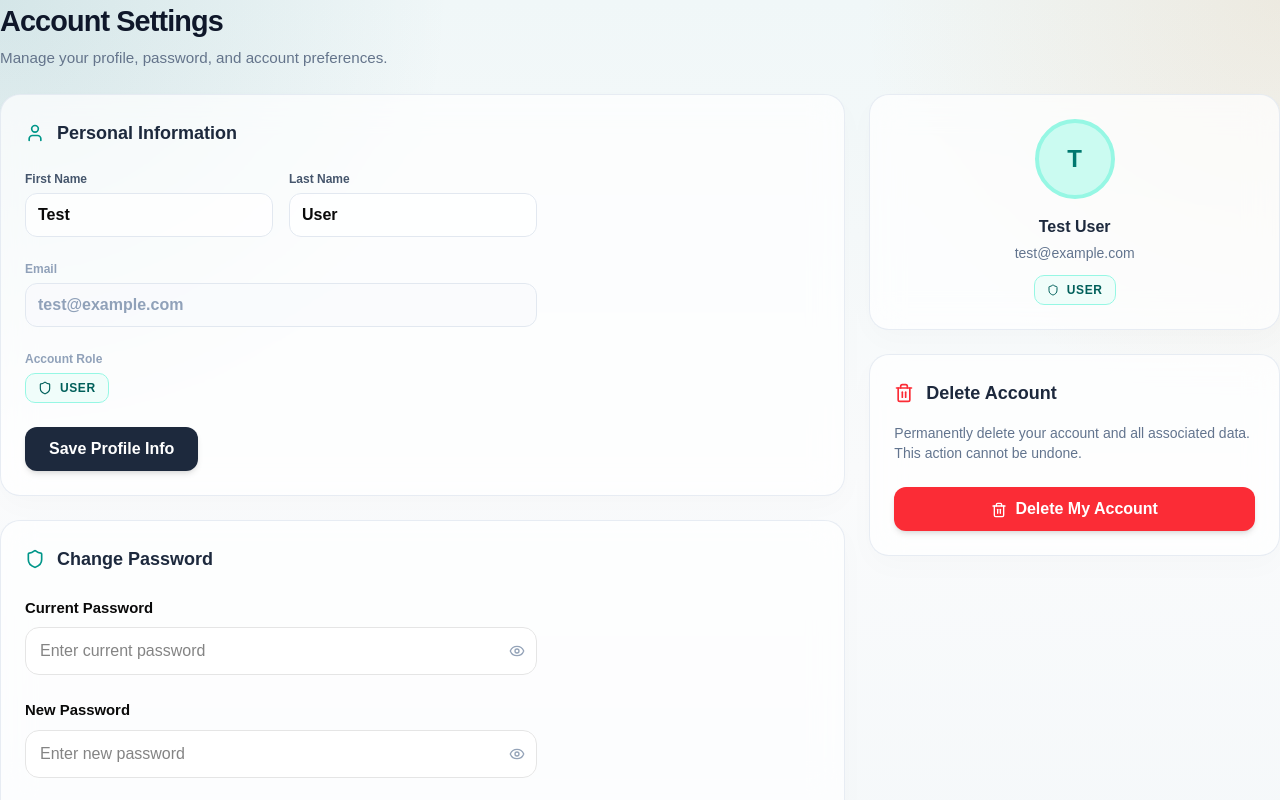
Scenario: DashboardSettings › closes delete dialog on cancel
Click the button with test id "delete-account-btn".
click(1075, 509)  # box [894,487,1255,531]
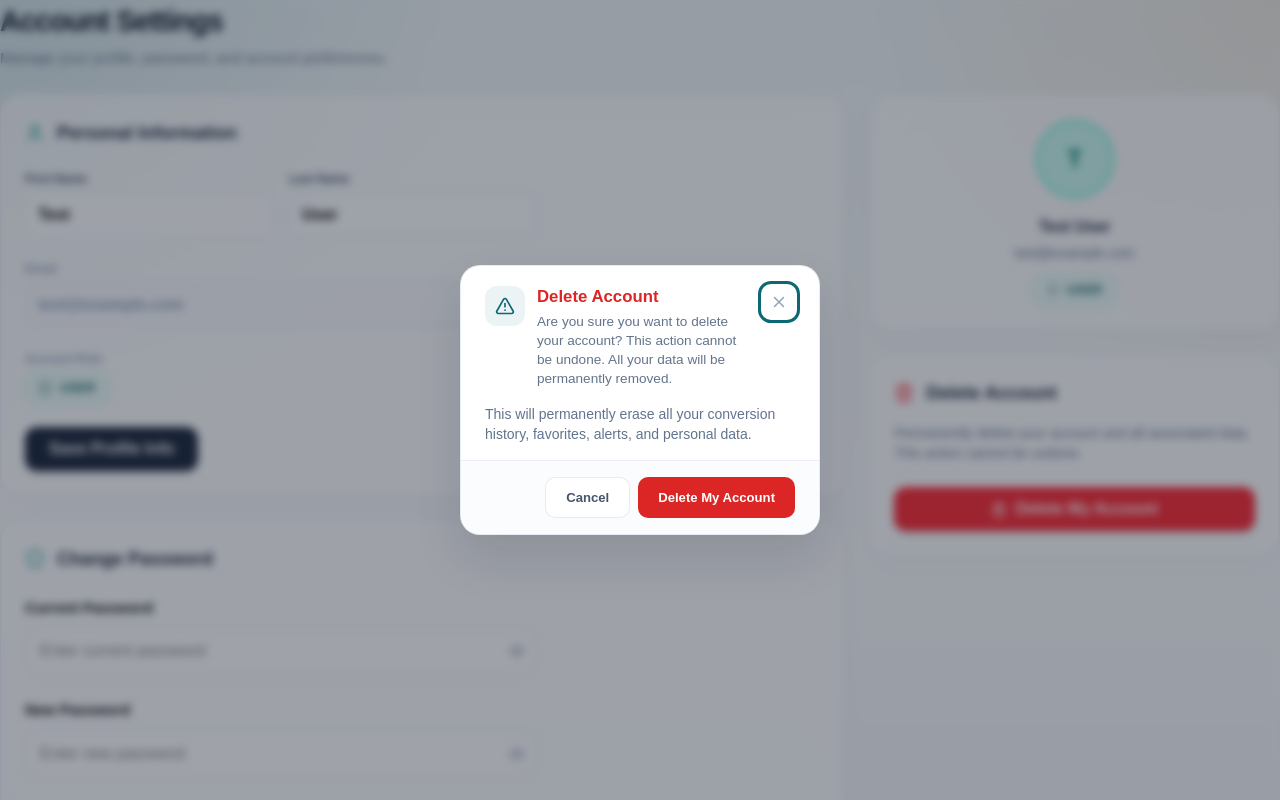
Now the dialog is shown, box [460,265,820,535]
Click the button "Cancel".
click(588, 497)  # box [545,477,630,518]
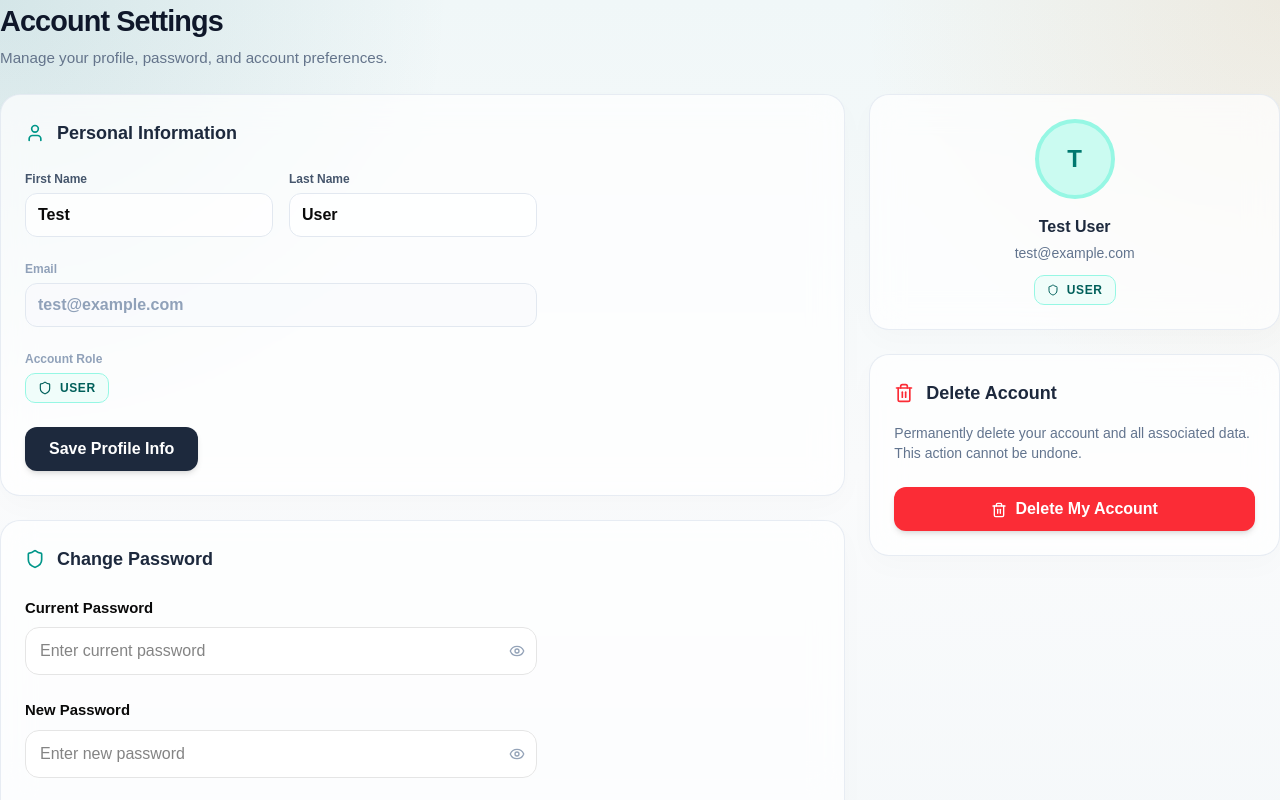
Now the dialog is gone
